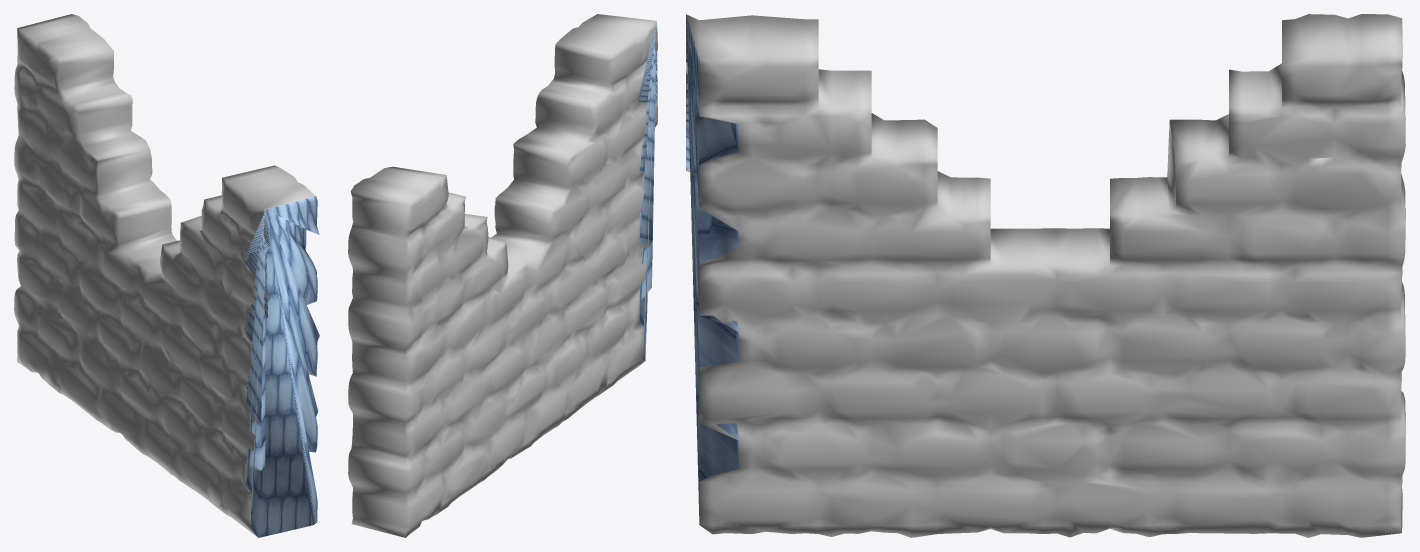
File: brokenWall.fbx
3 renders of one model, left to right at view 1: azimuth 30°, elevation 25°; view 2: azimuth 150°, elevation 25°; view 3: azimuth 270°, elevation 25°, orthographic. The views are drawn at different scales.
Visible parts, largest first — view 1: Cube; view 2: Cube; view 3: Cube.
Part boxes in pixels (<box>): Cube: <box>14,14,319,537</box>; Cube: <box>348,14,657,537</box>; Cube: <box>686,14,1405,537</box>.
Size of the model in its own units: 2.31 by 12.21 by 16.47.
